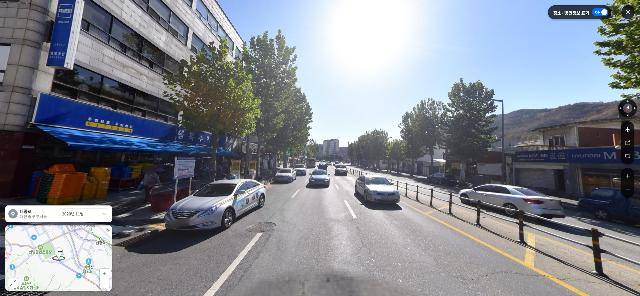other: (160, 39, 261, 180), (237, 29, 298, 177), (446, 78, 499, 183), (398, 97, 450, 175), (268, 85, 314, 171), (356, 128, 390, 170), (387, 140, 407, 172)
